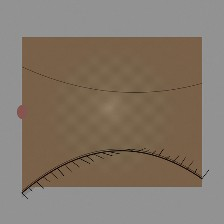corneal_ulcer: (75, 86, 134, 133)
